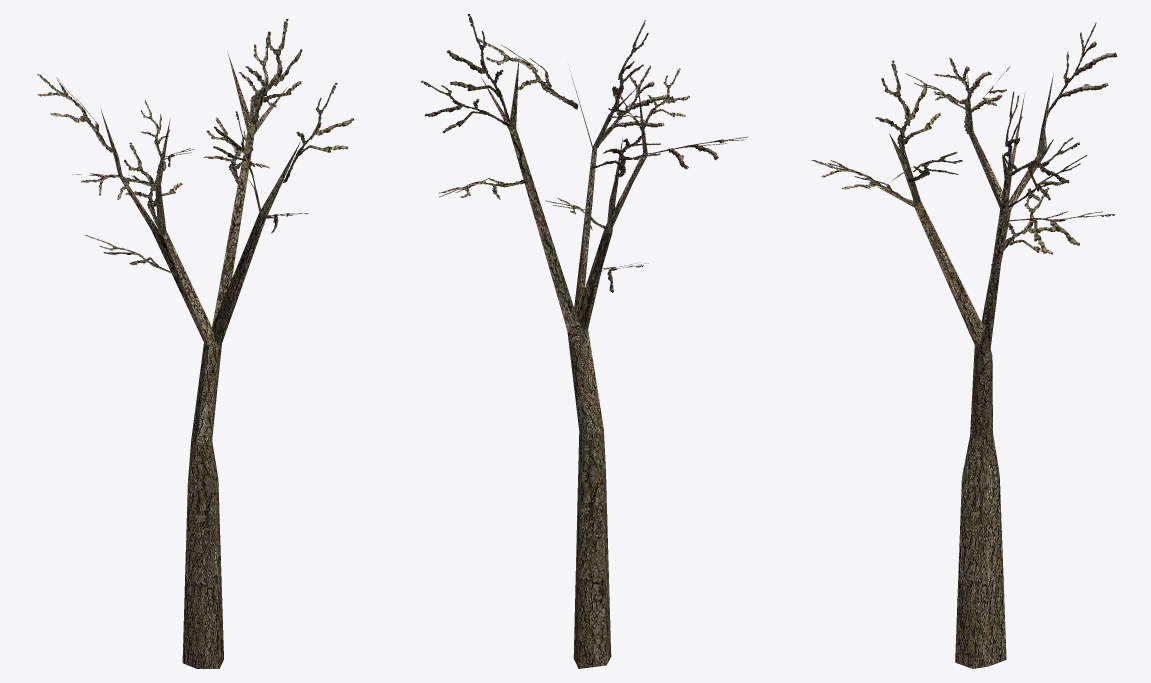
File: tree_dead_0.glb
The picture shows the model from 3 angles, left to right: view 1: azimuth 30°, elevation 25°; view 2: azimuth 150°, elevation 25°; view 3: azimuth 270°, elevation 25°; orthographic projection. The views are drawn at different scales.
Visible parts, largest first — view 1: tree_dead_0; view 2: tree_dead_0; view 3: tree_dead_0.
Boxes of the visible parts, bbox=[...] form: tree_dead_0: bbox=[37, 19, 354, 668]; tree_dead_0: bbox=[421, 14, 747, 668]; tree_dead_0: bbox=[811, 22, 1117, 668].
Size of the model in its own units: 7.48 by 15 by 7.29.
Materials: 1 (1 with a texture image).
